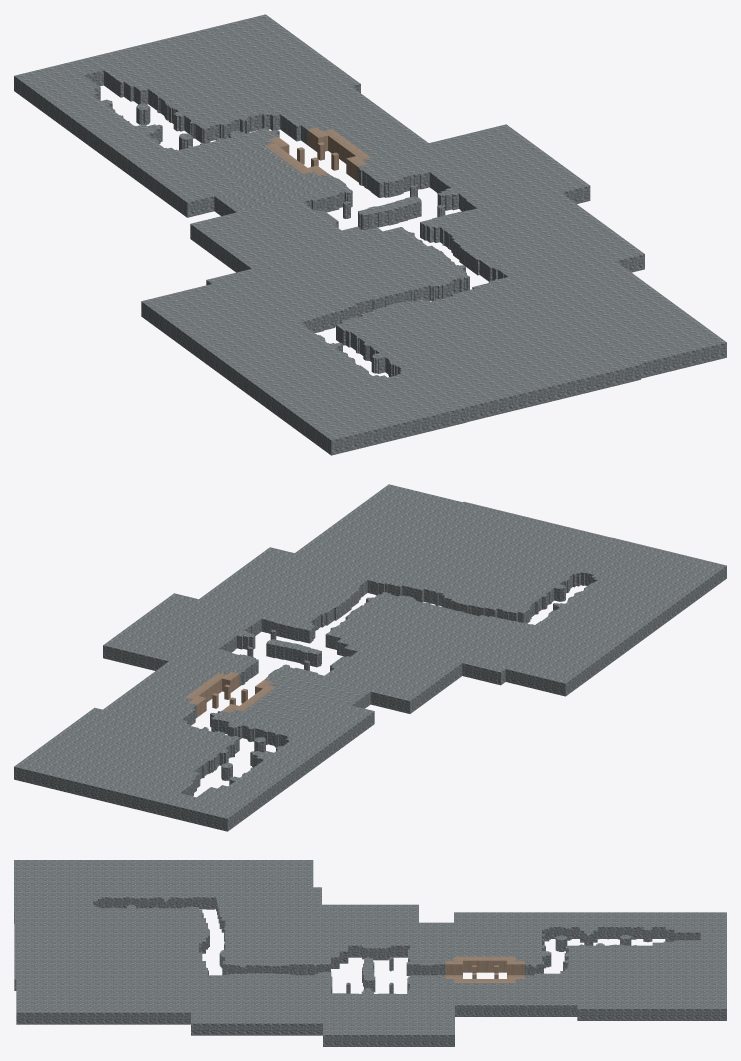
Rendered from DreadWorksLevel1Walls.obj.
The picture shows the model from 3 angles, top to bottom: view 1: azimuth 30°, elevation 25°; view 2: azimuth 150°, elevation 25°; view 3: azimuth 270°, elevation 25°; orthographic projection. The views are drawn at different scales.
Size of the model in its own units: 47 by 1.5 by 81.
2 materials, 2 textured.
